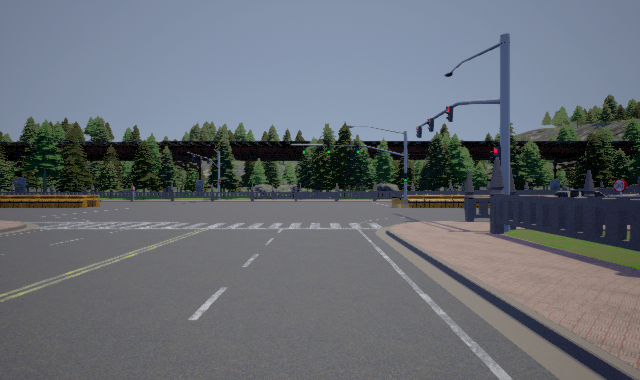traffic_light: (491, 146, 501, 166), (446, 106, 453, 122), (427, 118, 434, 132), (416, 126, 422, 138), (404, 173, 407, 182), (356, 145, 359, 153), (327, 145, 330, 153), (303, 145, 306, 153), (491, 161, 494, 164)
traffic_sign: (613, 179, 627, 192)
